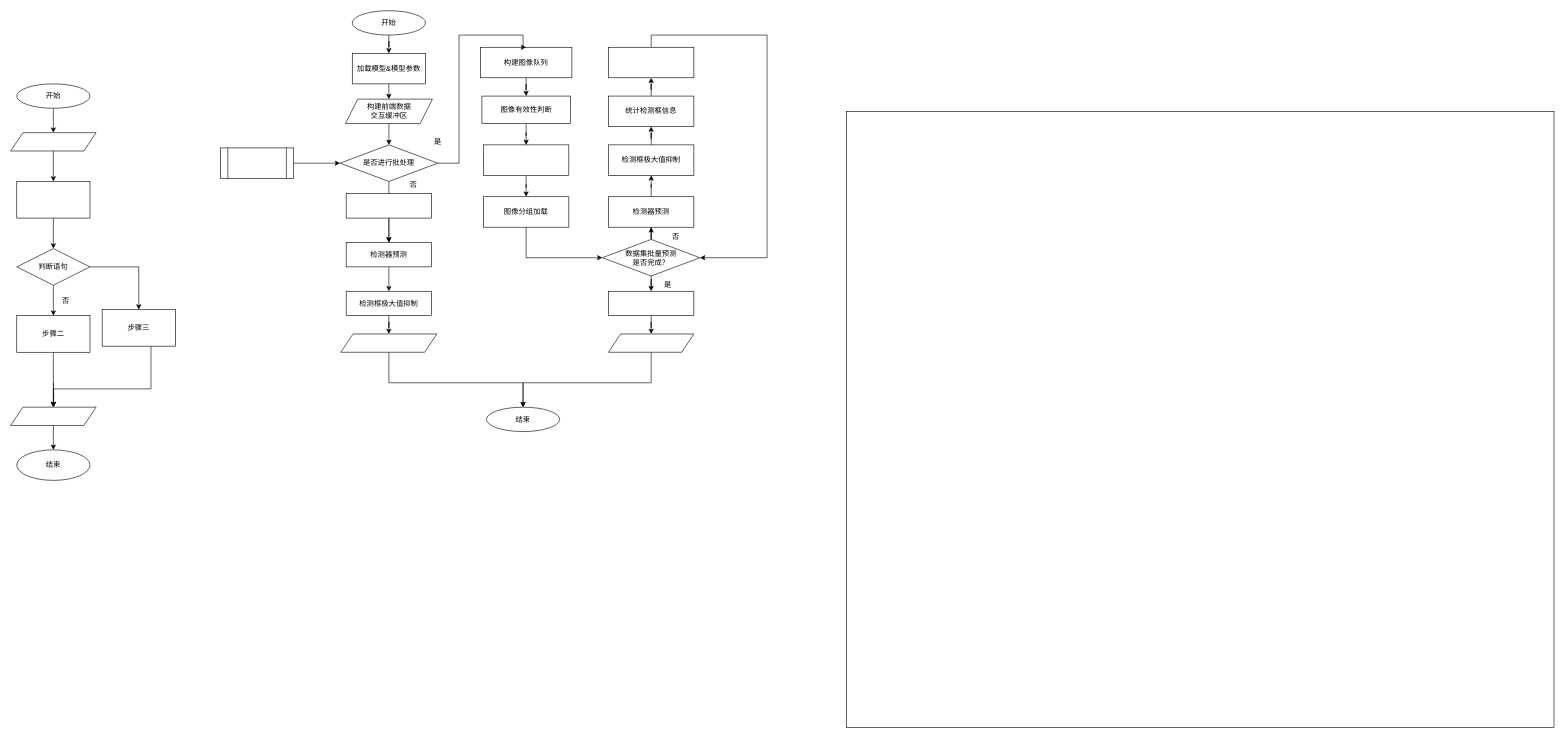
The diagram is 1565 pixels wide and 738 high, and some of its shapes have lost their labels. Each missing label, with the centre of its shape:
"前端交互控制" goes at [257,162].
"加载下一批数据" goes at [651,62].
"图像加载" goes at [389,205].
"图像预处理" goes at [526,159].
"检测指标" goes at [651,342].
"检测指标计算" goes at [651,303].
"步骤一" goes at [53,199].
"输入" goes at [53,141].
"输出" goes at [53,416].
"预测目标锚框及类别" goes at [388,342].
